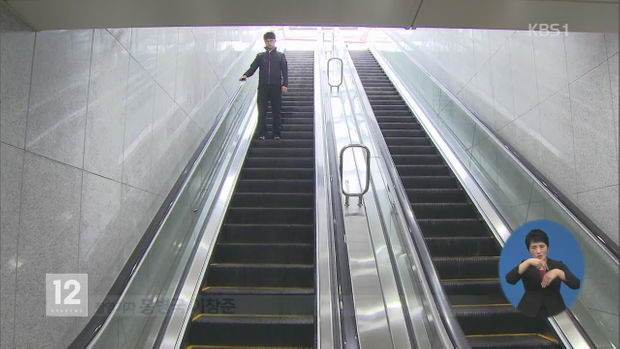person: (234, 30, 292, 145)
